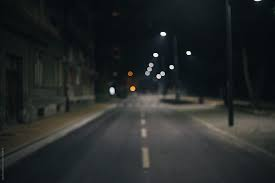strada: (42, 105, 265, 183)
